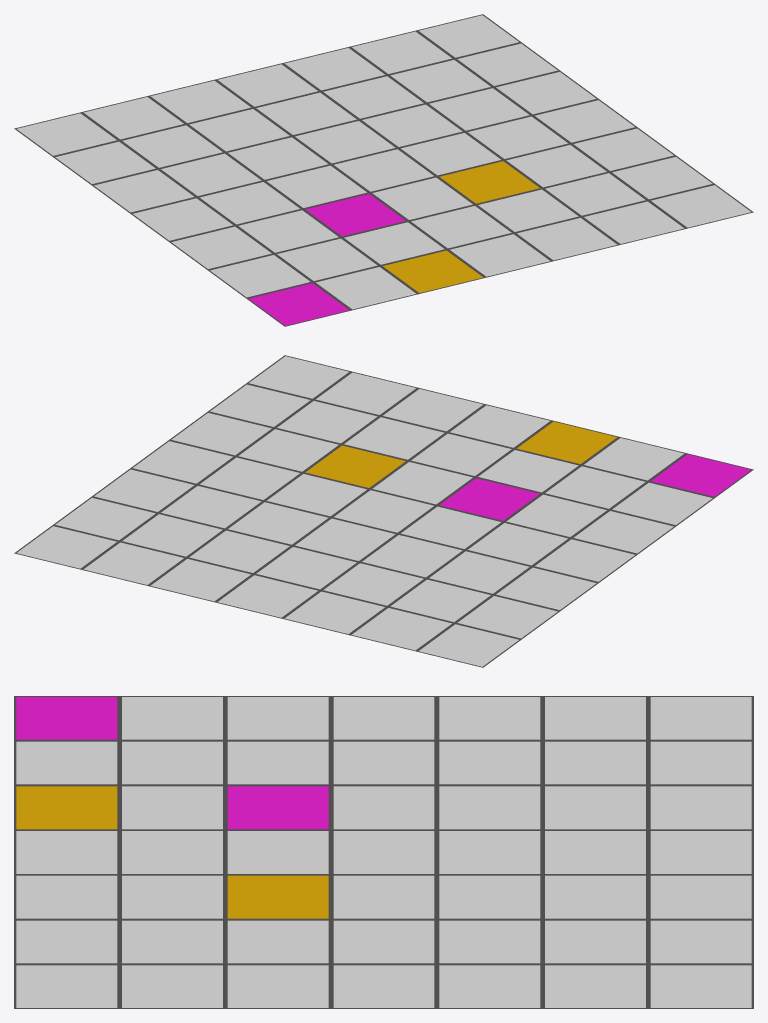
3 views of the same model, one above another, from view 1: azimuth 30°, elevation 25°; view 2: azimuth 150°, elevation 25°; view 3: azimuth 270°, elevation 25° (orthographic). The views are drawn at different scales.
Visible parts, largest first — view 1: Plane.001; view 2: Plane.001; view 3: Plane.001.
Boxes of the visible parts, x1,y1,x2,y2 form: Plane.001: (14,14,753,326); Plane.001: (14,355,753,667); Plane.001: (14,696,753,1008).
Bounding box in the file's own units: 1074 × 4.69e-05 × 1074.
